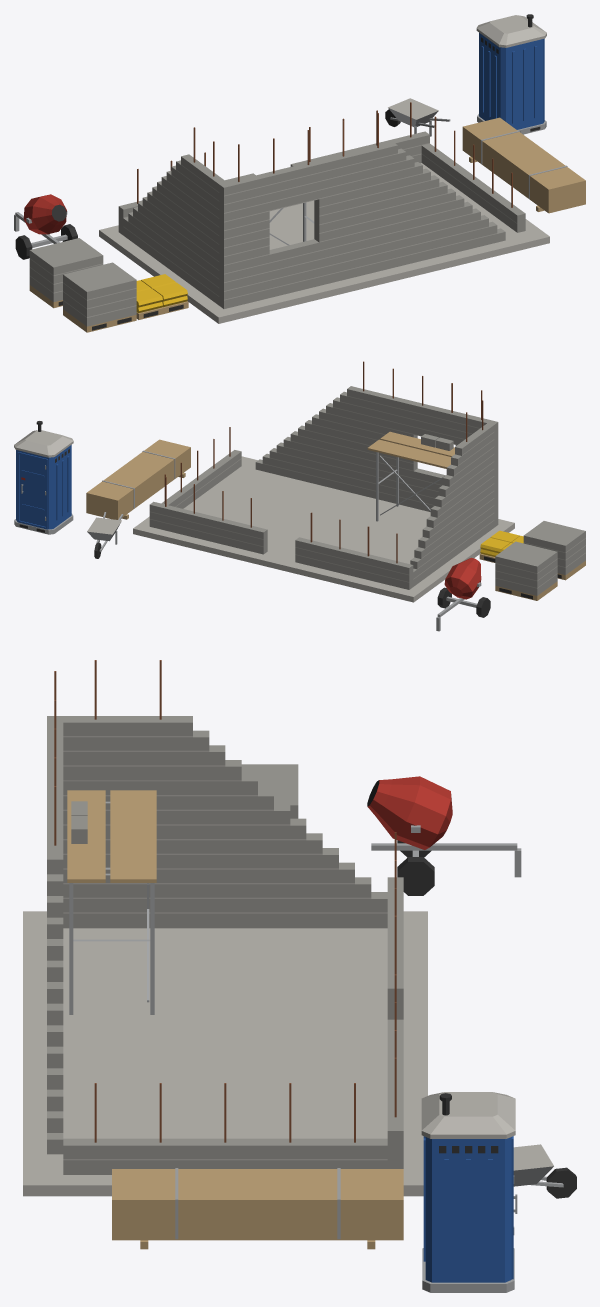
The model's file is construction-site.glb.
3 renders of one model, top to bottom at view 1: azimuth 30°, elevation 25°; view 2: azimuth 150°, elevation 25°; view 3: azimuth 270°, elevation 25°, orthographic. The views are drawn at different scales.
Visible parts, largest first — view 1: ConstructionSite; view 2: ConstructionSite; view 3: ConstructionSite.
Boxes of the visible parts, x1,y1,x2,y2 form: ConstructionSite: (14, 14, 585, 332); ConstructionSite: (14, 361, 585, 631); ConstructionSite: (23, 660, 576, 1292).
Bounding box in the file's own units: 13.43 × 3.75 × 6.84.
